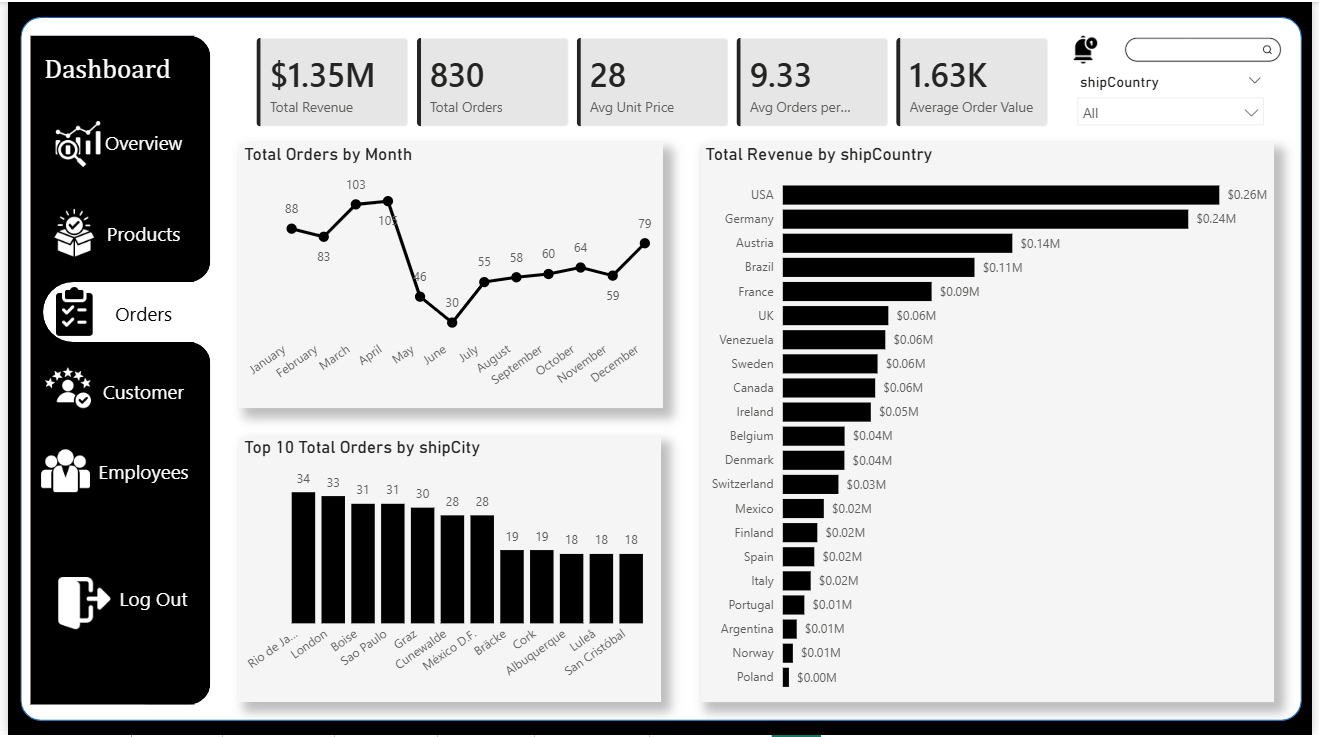

What the dashboard file says about the page in this screenshot:
{"tool":"powerbi","page":{"name":"Orders","canvas":[1280,720],"ordinal":3},"visuals":[{"type":"shape","box":[12.3,14.7,1257.7,690.8],"z":0},{"type":"shape","box":[22.1,33.1,160.7,656.4],"z":1000},{"type":"shape","box":[115.3,33.1,83.4,241.7],"z":2000},{"type":"shape","box":[34.4,274.8,300.6,58.9],"z":3000},{"type":"shape","box":[115.3,333.7,83.4,355.8],"z":4000},{"type":"image","box":[1066.3,0,213.5,93.3],"z":5000},{"type":"image","box":[1038,33.1,39.3,27],"z":6000},{"type":"cardVisual","fields":{"Data":["DaxM.Total Revenue","DaxM.Total Orders","DaxM.Avg Unit Price","Dax c.Avg Orders per Customer","DaxM.Average Order Value"]},"box":[227,18.4,812,121.5],"z":7000},{"type":"lineChart","fields":{"Category":["Orderdim.orderDate.Variation.Date Hierarchy.Year","Orderdim.orderDate.Variation.Date Hierarchy.Quarter","Orderdim.orderDate.Variation.Date Hierarchy.Month"],"Y":["DaxM.Total Orders"]},"box":[227,138.7,416,260.1],"z":8000},{"type":"clusteredBarChart","fields":{"Category":["Orderdim.shipCountry"],"Y":["DaxM.Total Revenue"]},"box":[679.8,138.7,563.2,548.5],"z":9000},{"type":"clusteredColumnChart","fields":{"Category":["Orderdim.shipCity"],"Y":["DaxM.Total Orders"]},"box":[227,427,413.5,260.1],"z":10000},{"type":"image","box":[30.7,279.8,68.7,47.9],"z":11000},{"type":"actionButton","box":[83.4,115.3,99.4,44.2],"z":12000},{"type":"actionButton","box":[83.4,206.1,99.4,40.5],"z":13000},{"type":"actionButton","box":[83.4,284.3,99.4,40.5],"z":14000},{"type":"actionButton","box":[83.4,362.4,99.4,40.5],"z":15000},{"type":"actionButton","box":[83.4,440.5,99.4,40.5],"z":16000},{"type":"image","box":[34.4,115.3,68.7,47.9],"z":17000},{"type":"image","box":[25.2,354.6,68.7,47.9],"z":18000},{"type":"image","box":[22.1,433.1,68.7,47.9],"z":19000},{"type":"image","box":[31.3,202.5,68.7,47.9],"z":20000},{"type":"slicer","fields":{"Values":["Orderdim.shipCountry"]},"box":[1039.3,65,203.7,57.7],"z":21000},{"type":"textbox","box":[30.7,46.6,152.1,46.6],"z":22000},{"type":"actionButton","box":[93.3,564.4,99.4,40.5],"z":23000},{"type":"image","box":[42.9,564.4,63.8,51.5],"z":24000}]}

Visuals, with their boxes in screenshot pixels (x1, y1, x2, y2), scaled from the page's 1280x720 canvas onto the 1319x737 screenshot:
shape: [x1=13, y1=15, x2=1309, y2=722]
shape: [x1=23, y1=34, x2=188, y2=706]
shape: [x1=119, y1=34, x2=205, y2=281]
shape: [x1=35, y1=281, x2=345, y2=342]
shape: [x1=119, y1=342, x2=205, y2=706]
image: [x1=1099, y1=0, x2=1318, y2=96]
image: [x1=1070, y1=34, x2=1110, y2=62]
cardVisual - DaxM.Total Revenue x DaxM.Total Orders: [x1=234, y1=19, x2=1071, y2=143]
lineChart - Orderdim.orderDate.Variation.Date Hierarchy.Year x Orderdim.orderDate.Variation.Date Hierarchy.Quarter: [x1=234, y1=142, x2=663, y2=408]
clusteredBarChart - Orderdim.shipCountry x DaxM.Total Revenue: [x1=701, y1=142, x2=1281, y2=703]
clusteredColumnChart - Orderdim.shipCity x DaxM.Total Orders: [x1=234, y1=437, x2=660, y2=703]
image: [x1=32, y1=286, x2=102, y2=335]
actionButton: [x1=86, y1=118, x2=188, y2=163]
actionButton: [x1=86, y1=211, x2=188, y2=252]
actionButton: [x1=86, y1=291, x2=188, y2=332]
actionButton: [x1=86, y1=371, x2=188, y2=412]
actionButton: [x1=86, y1=451, x2=188, y2=492]
image: [x1=35, y1=118, x2=106, y2=167]
image: [x1=26, y1=363, x2=97, y2=412]
image: [x1=23, y1=443, x2=94, y2=492]
image: [x1=32, y1=207, x2=103, y2=256]
slicer - Orderdim.shipCountry: [x1=1071, y1=67, x2=1281, y2=126]
textbox: [x1=32, y1=48, x2=188, y2=95]
actionButton: [x1=96, y1=578, x2=199, y2=619]
image: [x1=44, y1=578, x2=110, y2=630]
